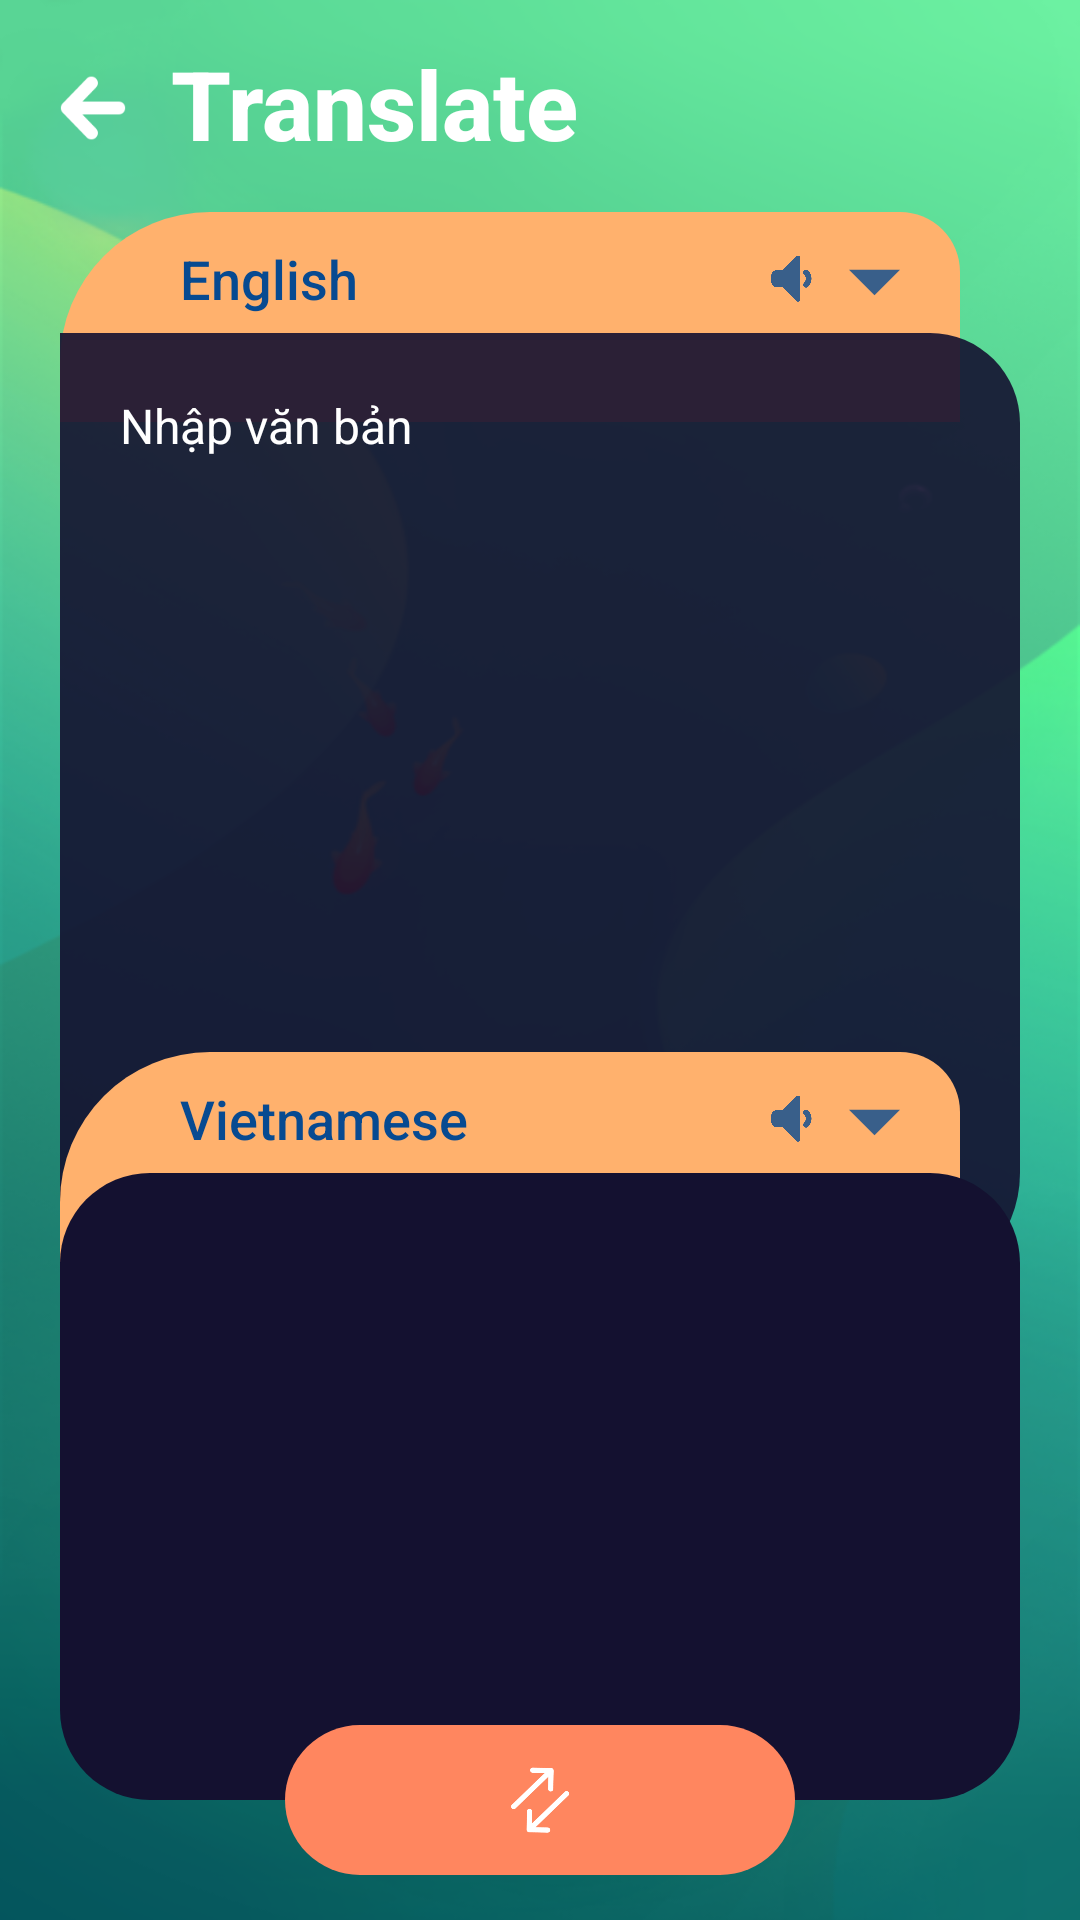

Where to tap for icons on this 1080 x 1920 app screen, as point (x, y):
arrow: point (93, 108)
arrow down: point (874, 282), point (874, 1122)
arrow rev: point (540, 1800)
translate sound: point (791, 279), point (791, 1119)
